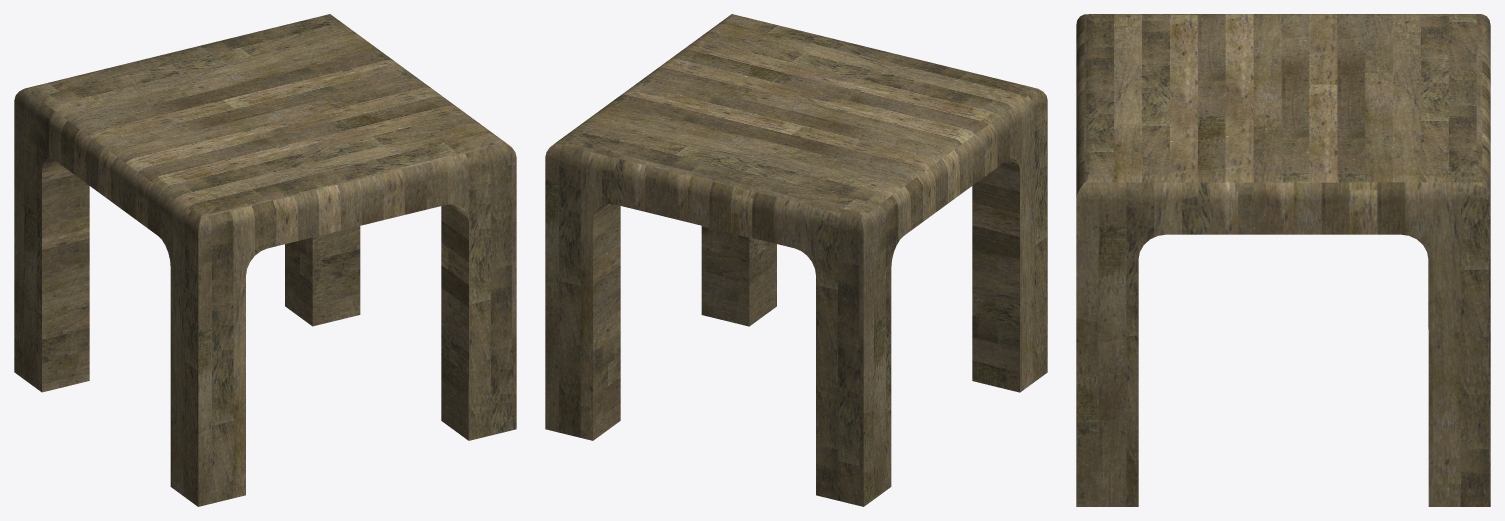
3 views of the same model, side by side, from view 1: azimuth 30°, elevation 25°; view 2: azimuth 150°, elevation 25°; view 3: azimuth 270°, elevation 25° (orthographic). The views are drawn at different scales.
Parts seen in each view (by area): view 1: Seat__7_; view 2: Seat__7_; view 3: Seat__7_.
Part boxes in pixels (x1=…): Seat__7_: x1=14, y1=14, x2=516, y2=506; Seat__7_: x1=545, y1=14, x2=1047, y2=506; Seat__7_: x1=1076, y1=14, x2=1490, y2=506.
Size of the model in its own units: 40.9 by 35.35 by 40.91.
